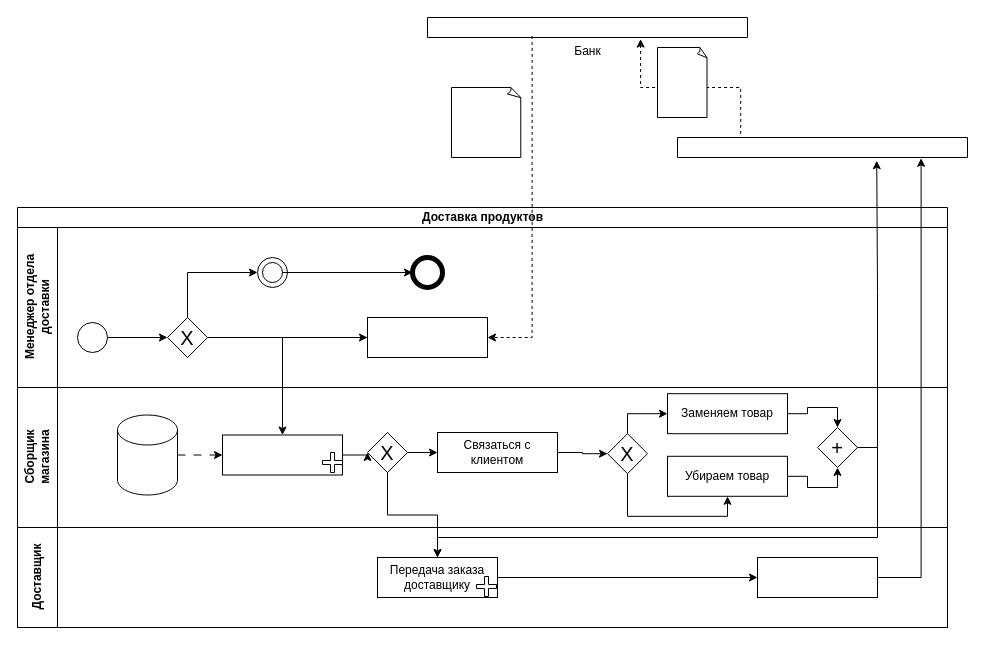
This 985x645 diagram has some shape labels left out. Each missing label, with the box of its shape:
БД: (116, 414, 178, 495)
Доставка заказа: (756, 556, 878, 598)
Клиент: (676, 136, 968, 158)
Обработка заявки: (366, 316, 488, 358)
Оплата: (656, 46, 708, 118)
Сбор заказа: (222, 434, 342, 475)
Транзакция: (450, 86, 522, 158)
